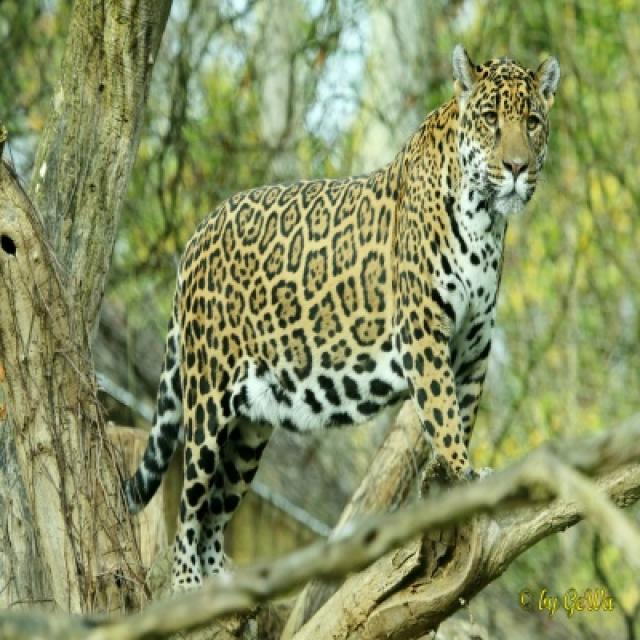Jaguar: (122, 46, 562, 589)
